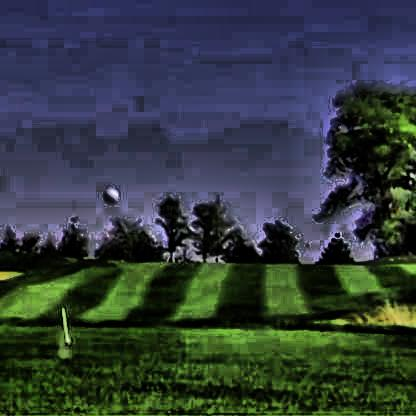golfball: (99, 183, 117, 203)
